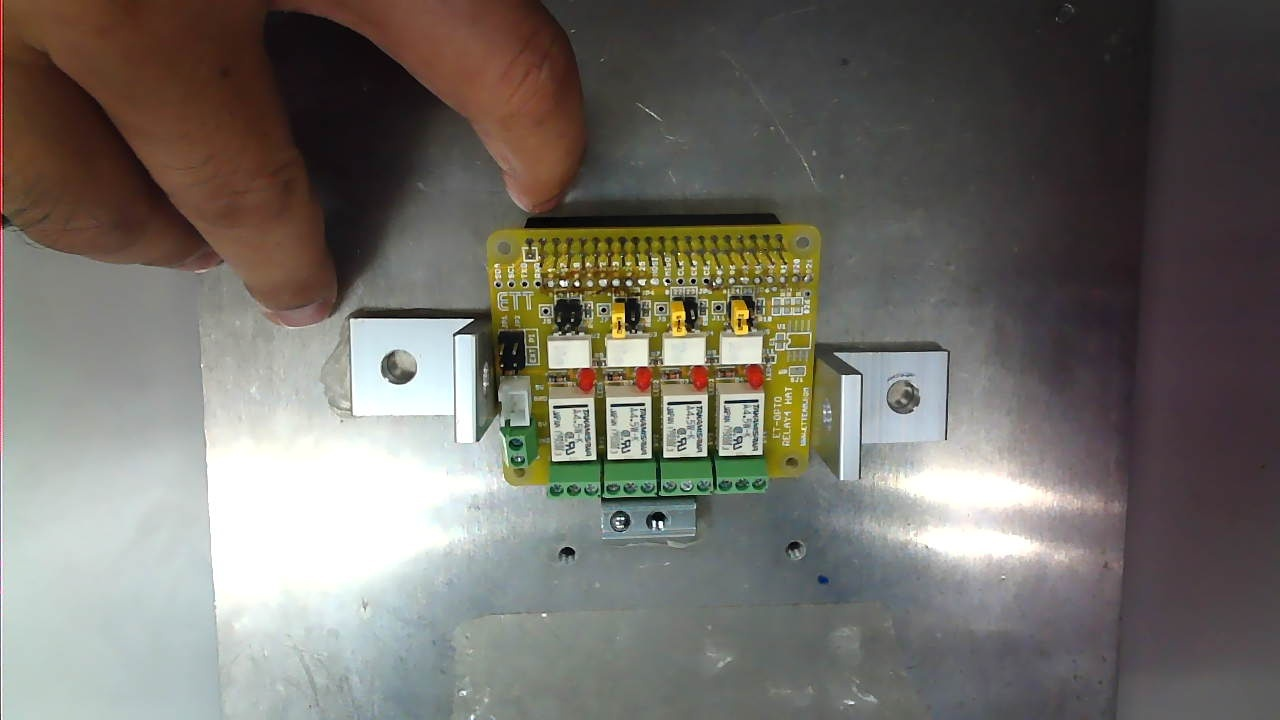ry: (661, 373, 710, 455)
